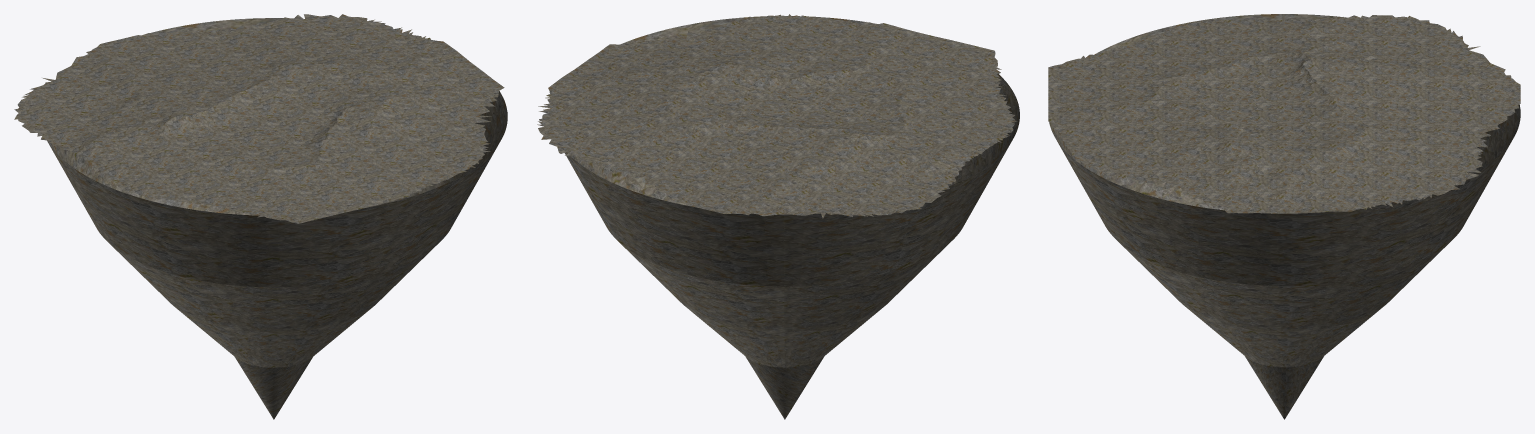
File: terrain003.glb
3 renders of one model, left to right at view 1: azimuth 30°, elevation 25°; view 2: azimuth 150°, elevation 25°; view 3: azimuth 270°, elevation 25°, orthographic.
Visible parts, largest first — view 1: Terrain003_1K, skirt; view 2: Terrain003_1K, skirt; view 3: Terrain003_1K, skirt.
Boxes of the visible parts, x1,y1,x2,y2 form: Terrain003_1K: (14, 14, 504, 223); skirt: (47, 18, 507, 419); Terrain003_1K: (537, 14, 1017, 218); skirt: (564, 16, 1019, 419); Terrain003_1K: (1048, 15, 1520, 213); skirt: (1049, 14, 1520, 419).
Size of the model in its own units: 200 by 149 by 200.
Materials: 1 (1 with a texture image).
